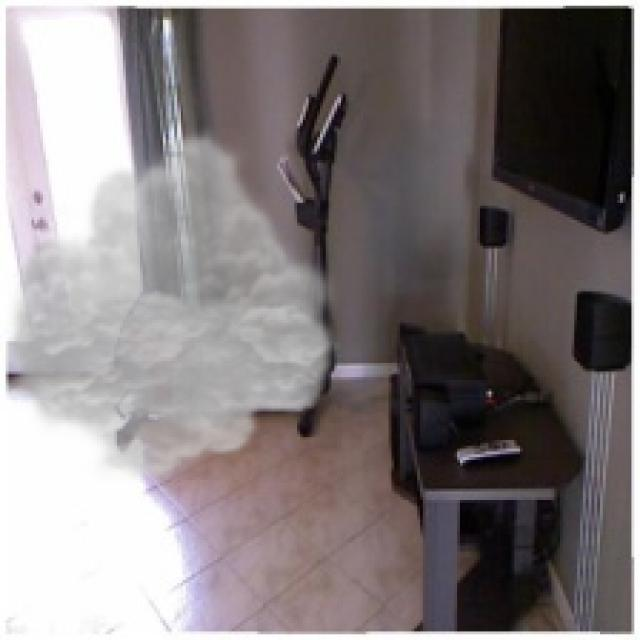Smoke: (0, 126, 346, 483)
